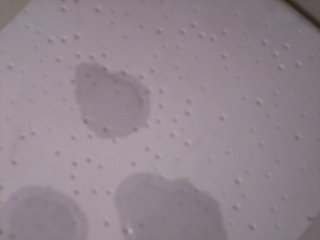Water_detected: (130, 179, 206, 240), (76, 71, 139, 133)
